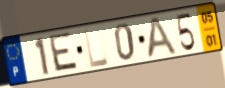0: (113, 22, 136, 63)
1: (33, 35, 51, 77)
5: (174, 11, 197, 52)
A: (145, 15, 179, 61)
E: (48, 30, 81, 74)
L: (82, 26, 111, 69)
